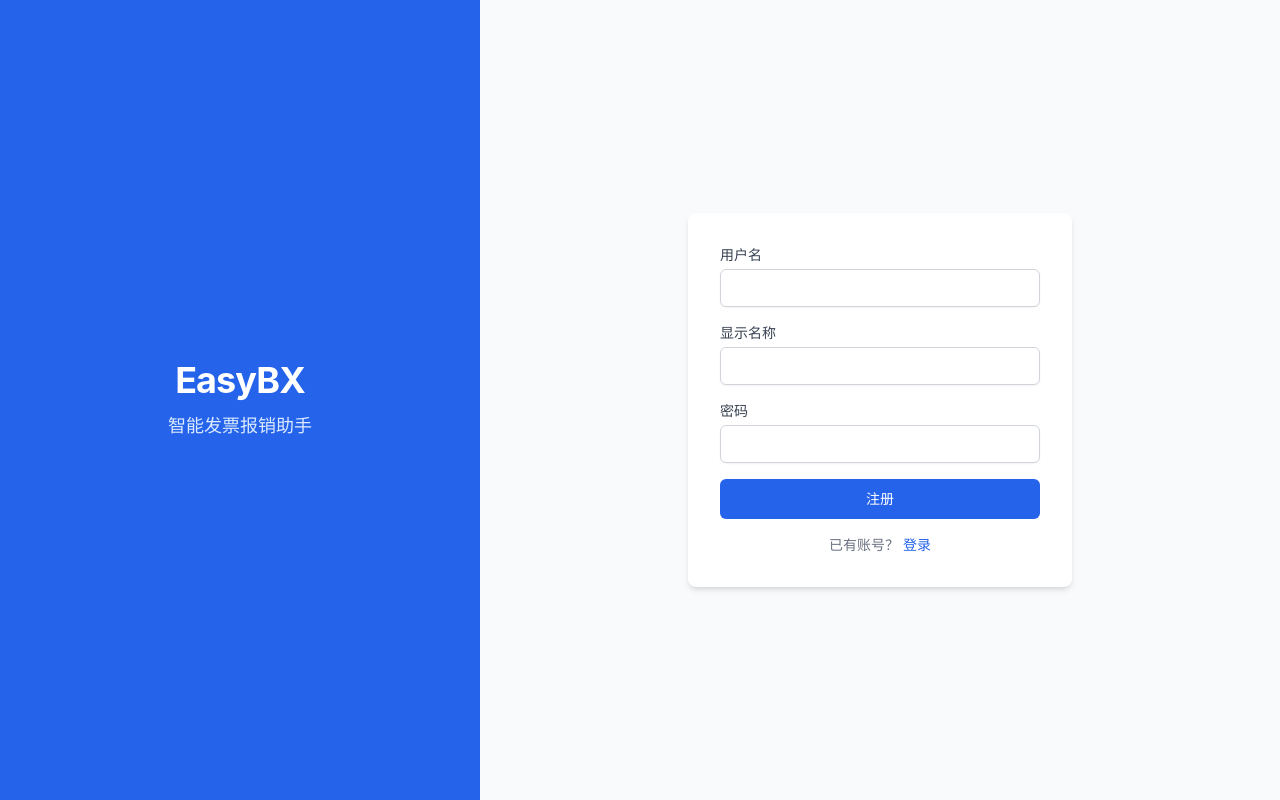
Test case: RegisterPage error mapping › shows username exists error on 409 without clearing form fields
Type "existing" into the field labelled "用户名" at (880, 288), box left=720, top=269, right=1040, bottom=307
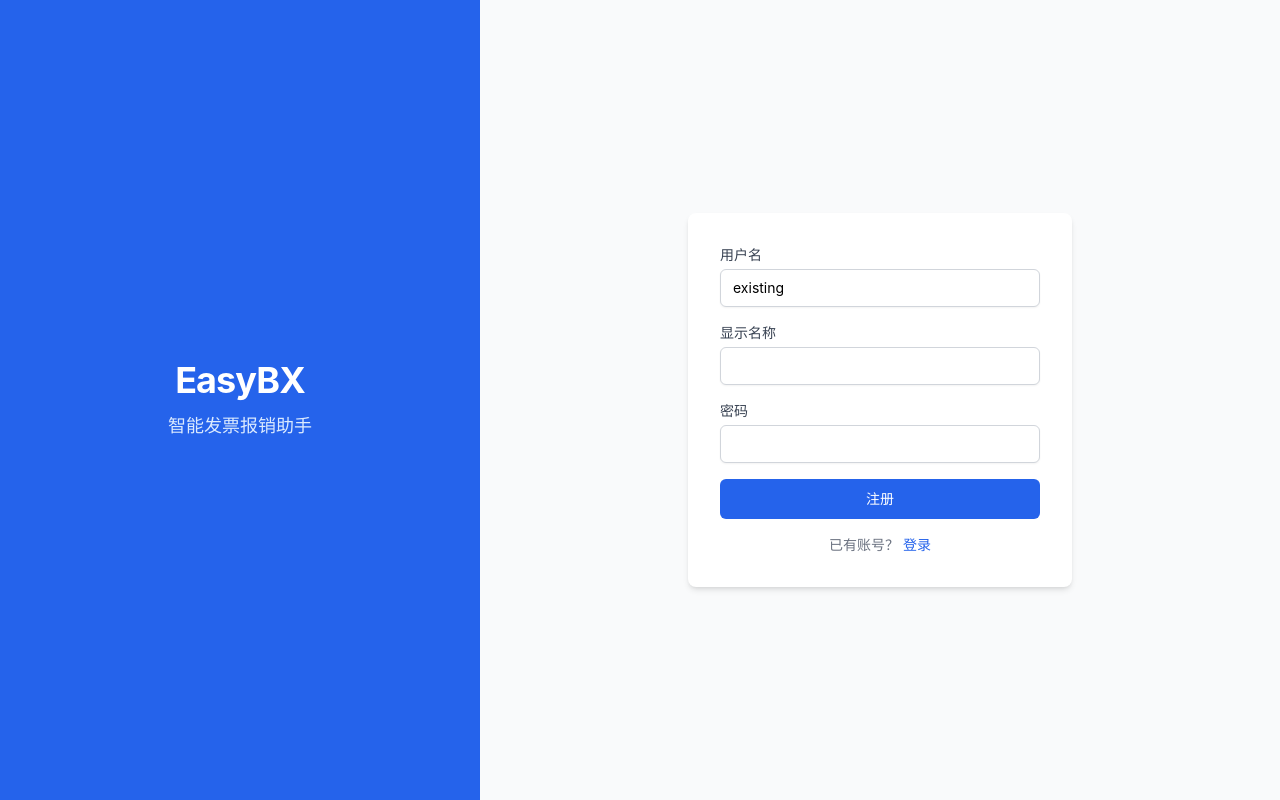
Type "测试" into the field labelled "显示名称" at (880, 366), box left=720, top=347, right=1040, bottom=385
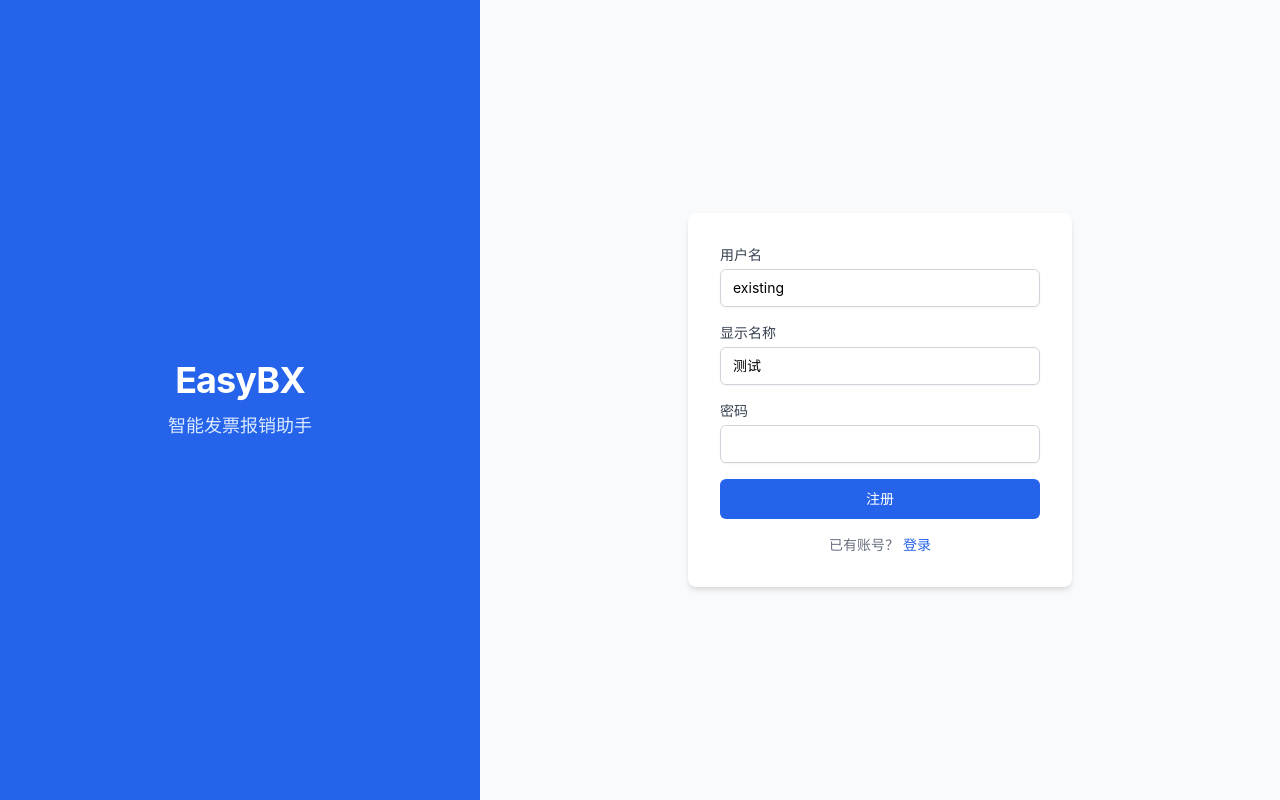
Type "123456" into the password field labelled "密码" at (880, 444), box left=720, top=425, right=1040, bottom=463
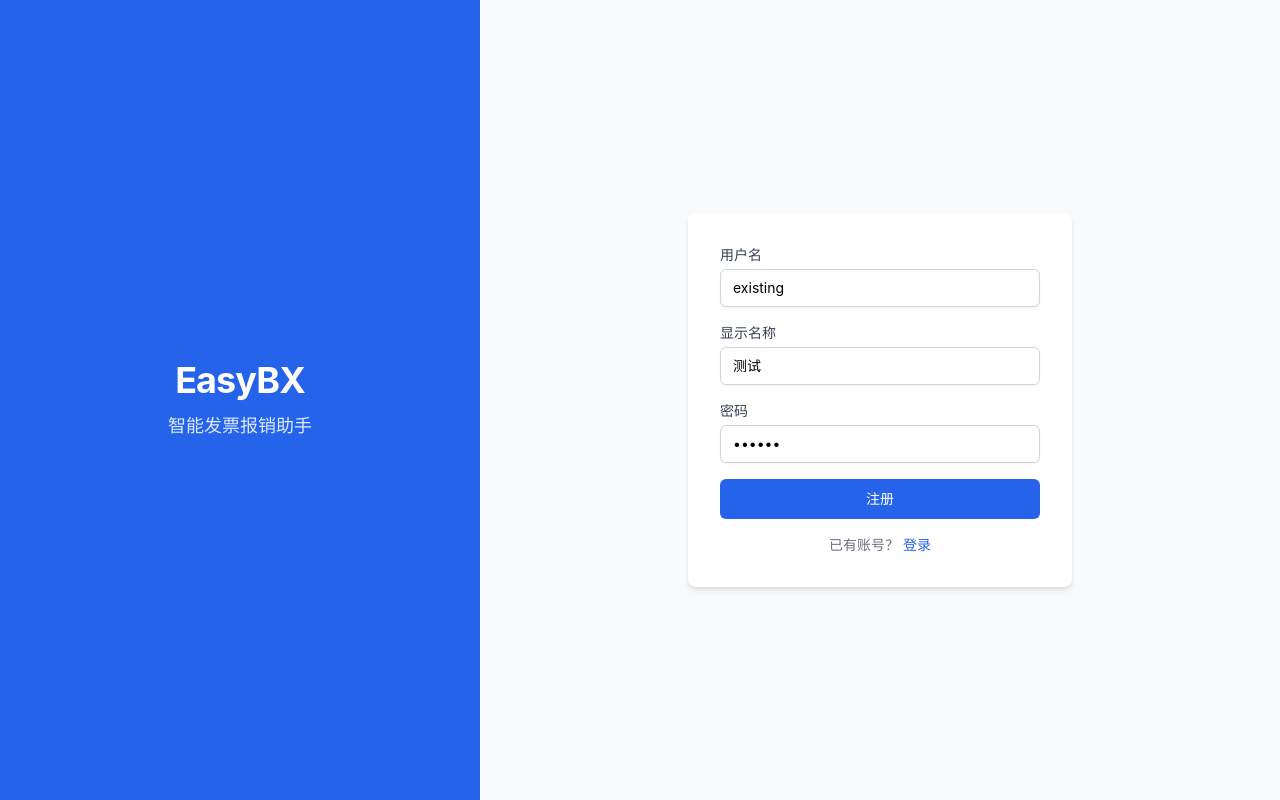
Click the button "注册" at (880, 499), box left=720, top=479, right=1040, bottom=519
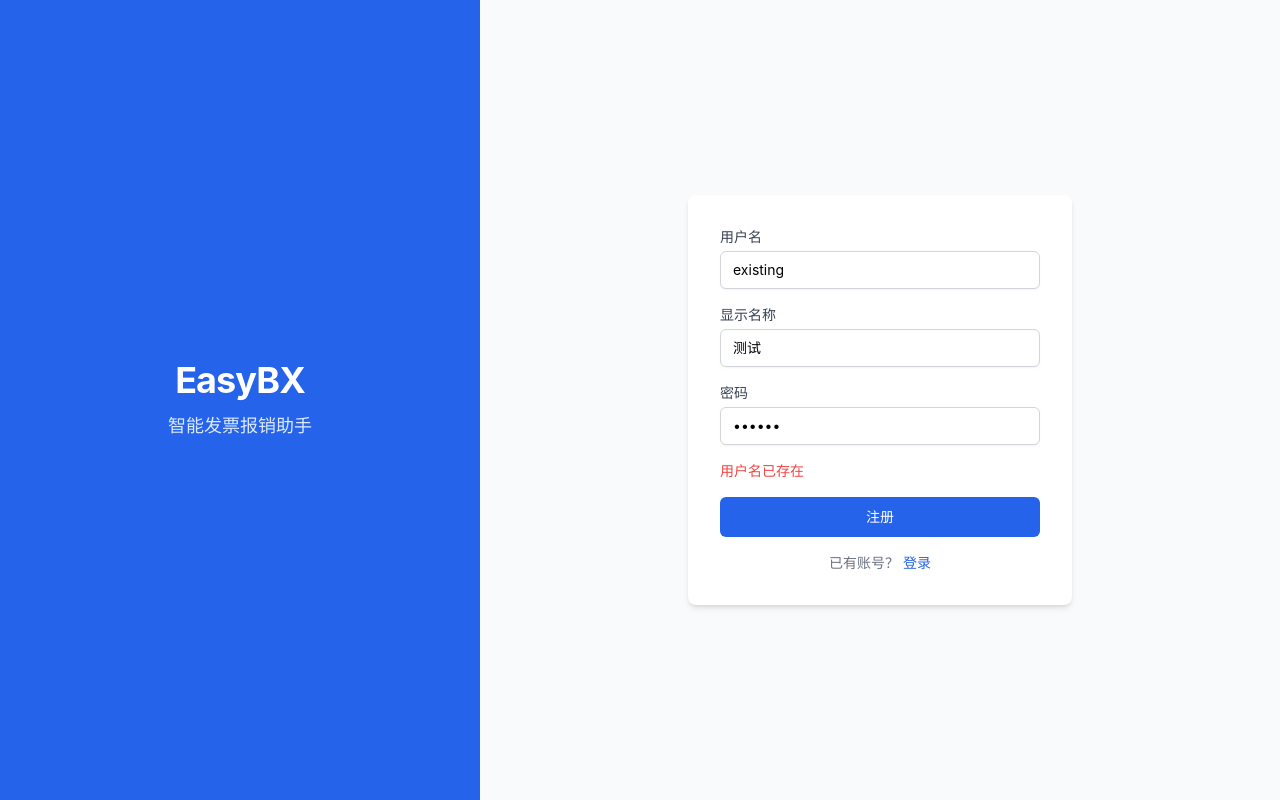
Expected: the text "用户名已存在" is shown, left=720, top=462, right=804, bottom=479
